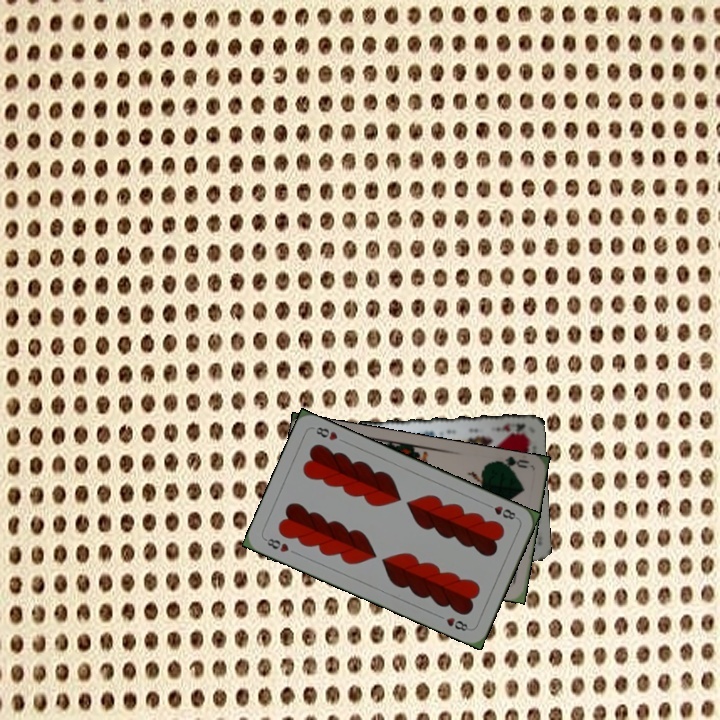GO: (491, 453, 532, 474)
H8: (482, 500, 520, 522), (261, 534, 291, 555)
HK: (492, 418, 528, 437)
